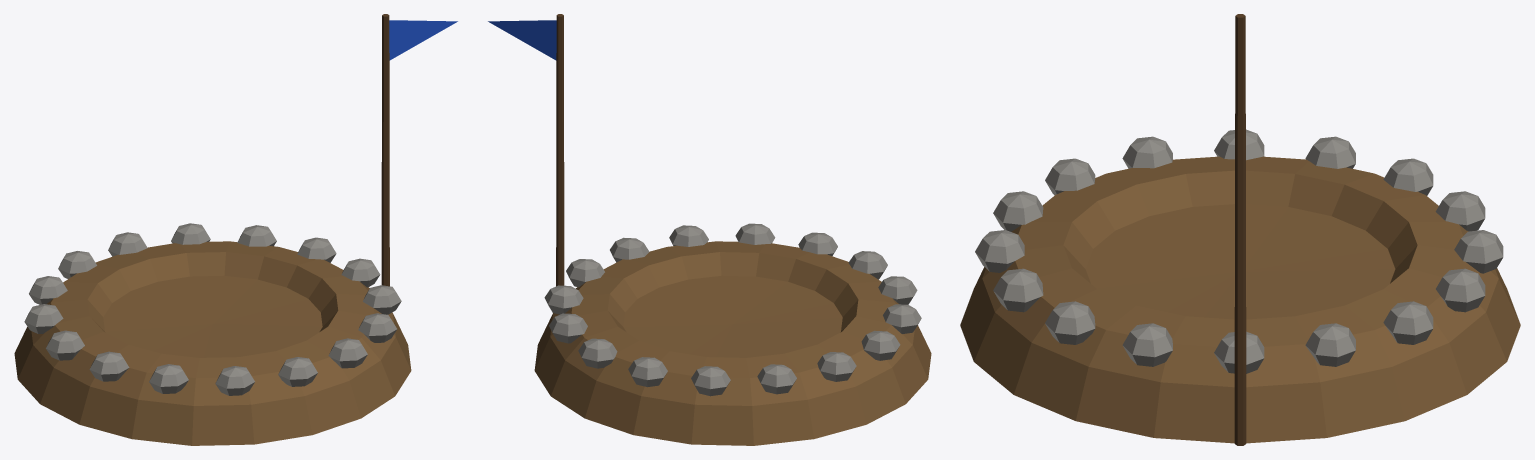
Rendered from KokBoru_KazanBlue.obj.
3 views of the same model, side by side, from view 1: azimuth 30°, elevation 25°; view 2: azimuth 150°, elevation 25°; view 3: azimuth 270°, elevation 25° (orthographic). The views are drawn at different scales.
Parts seen in each view (by area): view 1: KokBoru_KazanBlue; view 2: KokBoru_KazanBlue; view 3: KokBoru_KazanBlue.
Part boxes in pixels (x1,y1,x2,y2): KokBoru_KazanBlue: (14,14,457,445); KokBoru_KazanBlue: (488,14,931,445); KokBoru_KazanBlue: (960,14,1520,445).
Bounding box in the file's own units: 4.6 × 3.2 × 3.8.
